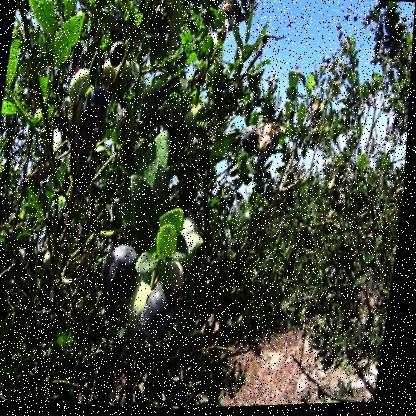intermediate: (261, 124, 279, 158), (221, 4, 235, 22)
mature: (76, 86, 113, 157), (104, 242, 144, 304), (143, 283, 183, 345), (244, 127, 265, 154), (110, 42, 128, 67), (179, 387, 193, 408)
young: (126, 280, 156, 332), (163, 258, 193, 301), (183, 101, 213, 137), (103, 59, 133, 90), (70, 68, 94, 103), (47, 252, 57, 270), (320, 105, 329, 120), (274, 75, 284, 85), (1, 386, 5, 400)
